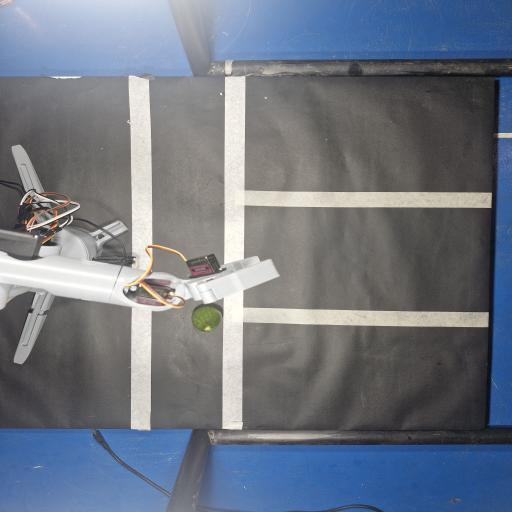higo: (192, 306, 222, 332)
